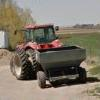Tractor: (6, 18, 88, 89)
